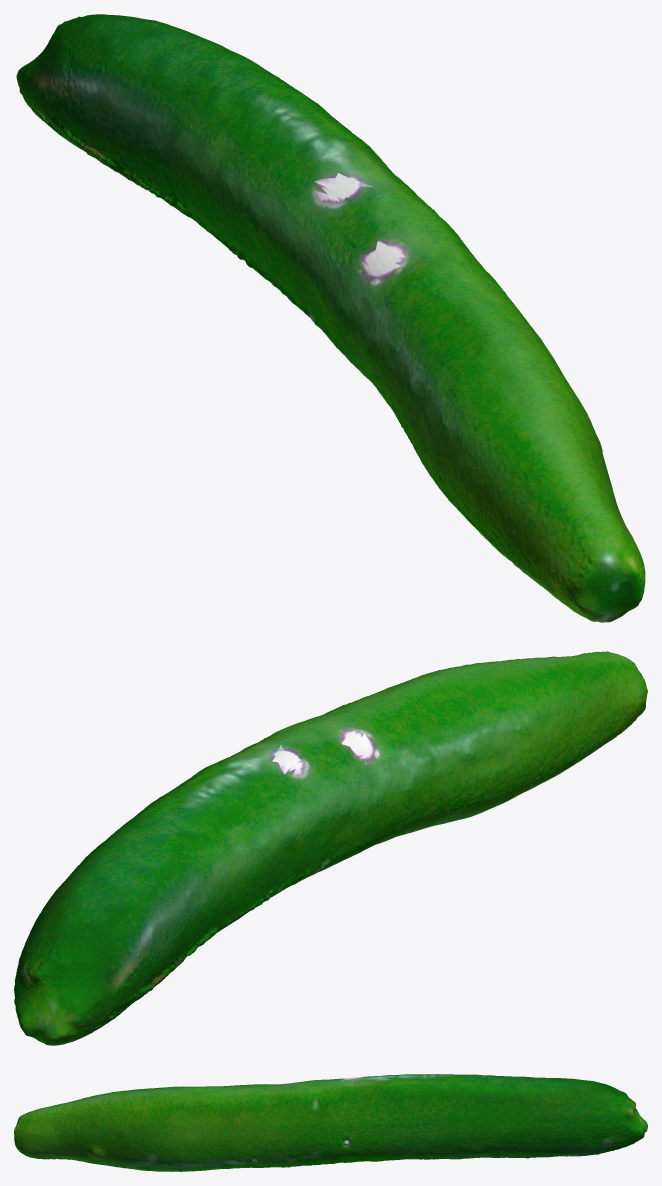
Rendered from cucumber.obj.
The picture shows the model from 3 angles, top to bottom: view 1: azimuth 30°, elevation 25°; view 2: azimuth 150°, elevation 25°; view 3: azimuth 270°, elevation 25°; orthographic projection. The views are drawn at different scales.
Parts seen in each view (by area): view 1: cucumber; view 2: cucumber; view 3: cucumber.
Boxes of the visible parts, bbox=[...] form: cucumber: bbox=[16, 14, 645, 622]; cucumber: bbox=[14, 651, 647, 1045]; cucumber: bbox=[14, 1074, 647, 1171].
Bounding box in the file's own units: 0.0413 × 0.0415 × 0.2334.
